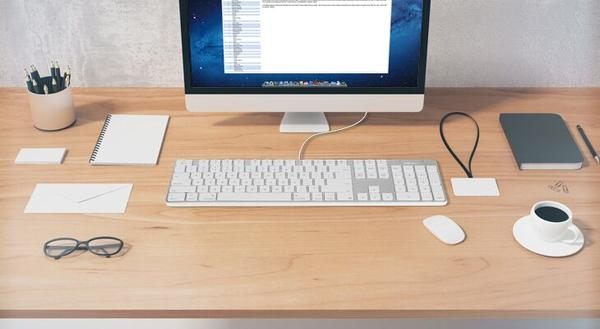keyboard: (159, 153, 451, 211)
monitor: (175, 1, 429, 122)
mouse: (412, 210, 475, 248)
